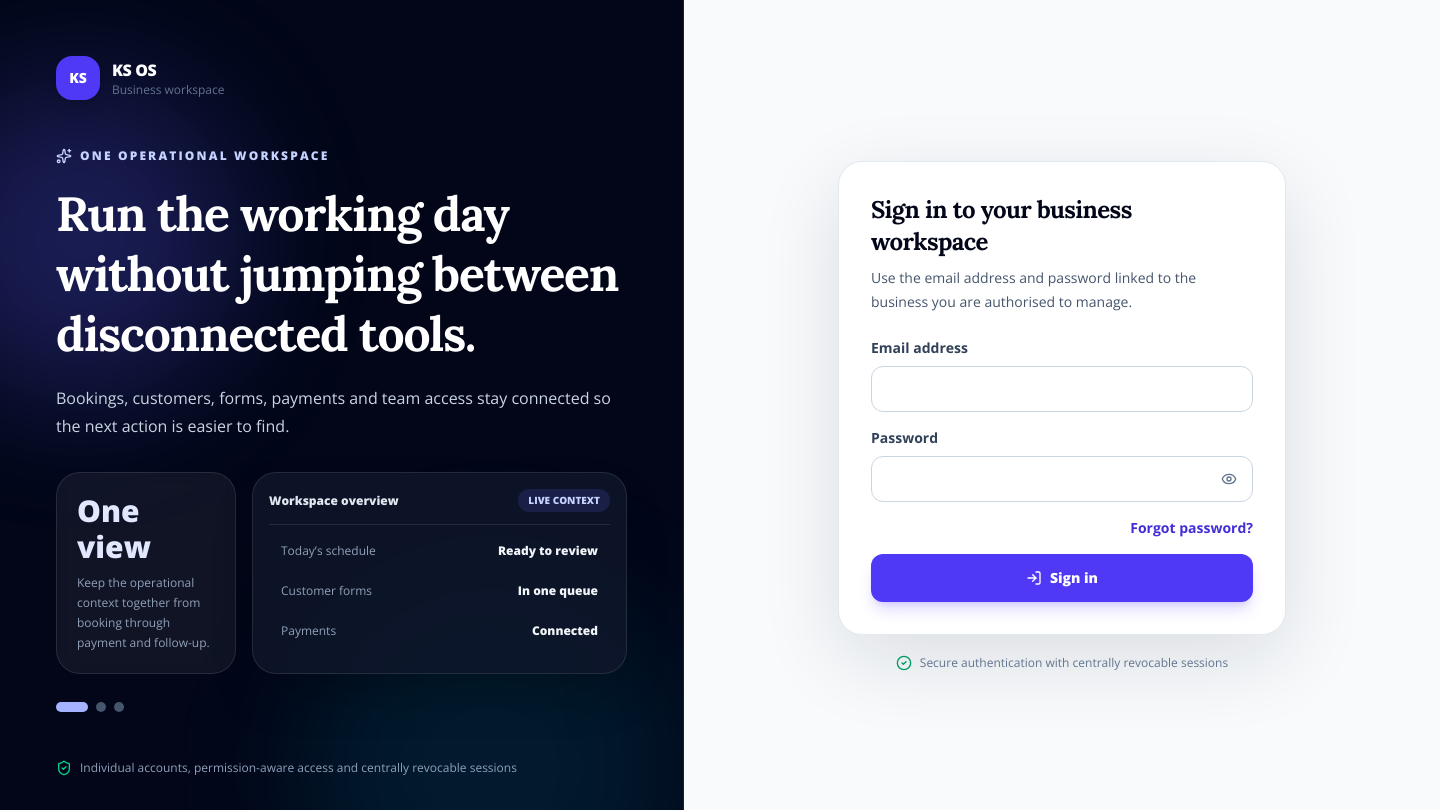
Test: business sign-in › shows the right error for provider status 402
The image size is (1440, 810).
Type "test@example.invalid" into the field labelled "Email address" at (1062, 389), box left=871, top=366, right=1253, bottom=412
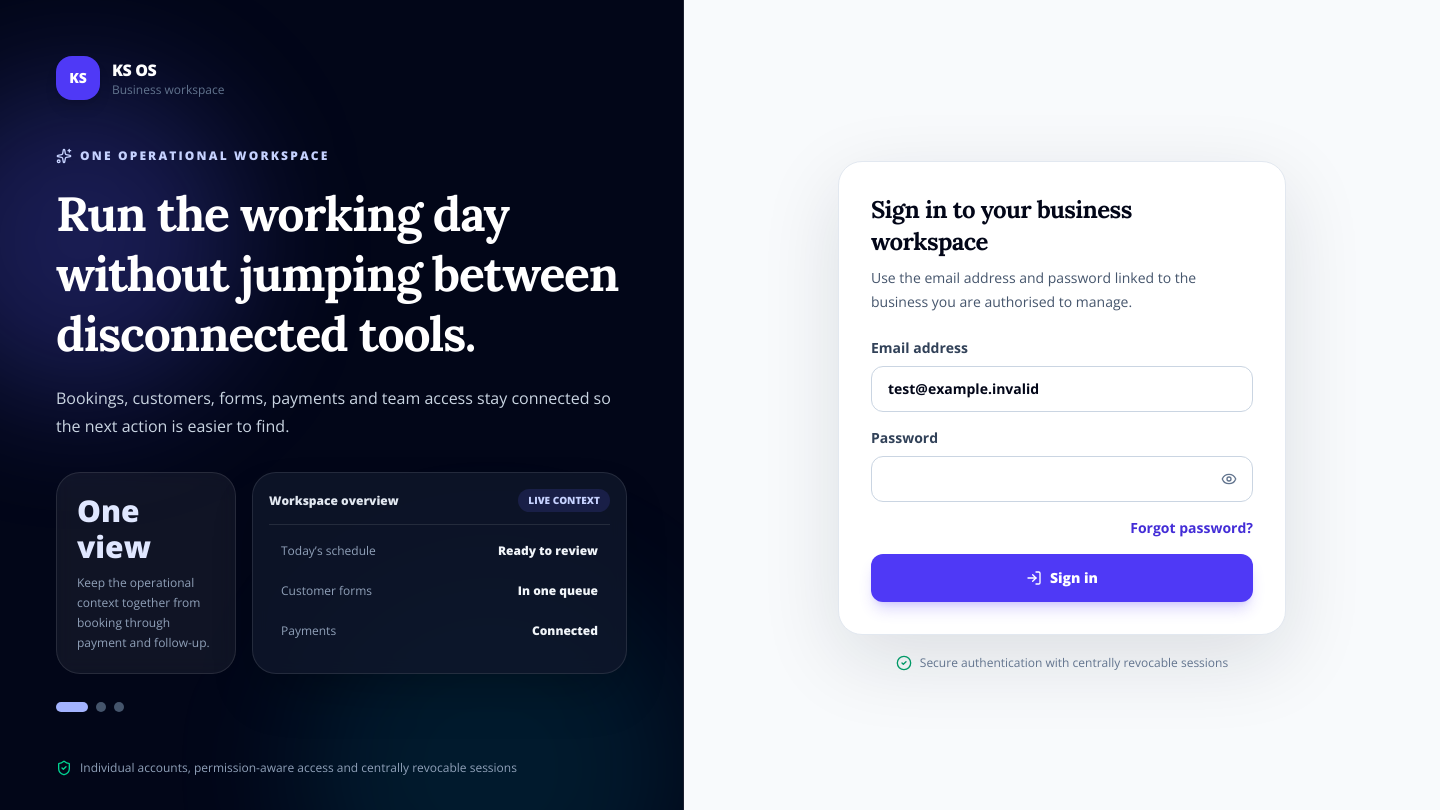
Type "test-password" into the password field labelled "Password" at (1062, 479), box left=871, top=456, right=1253, bottom=502
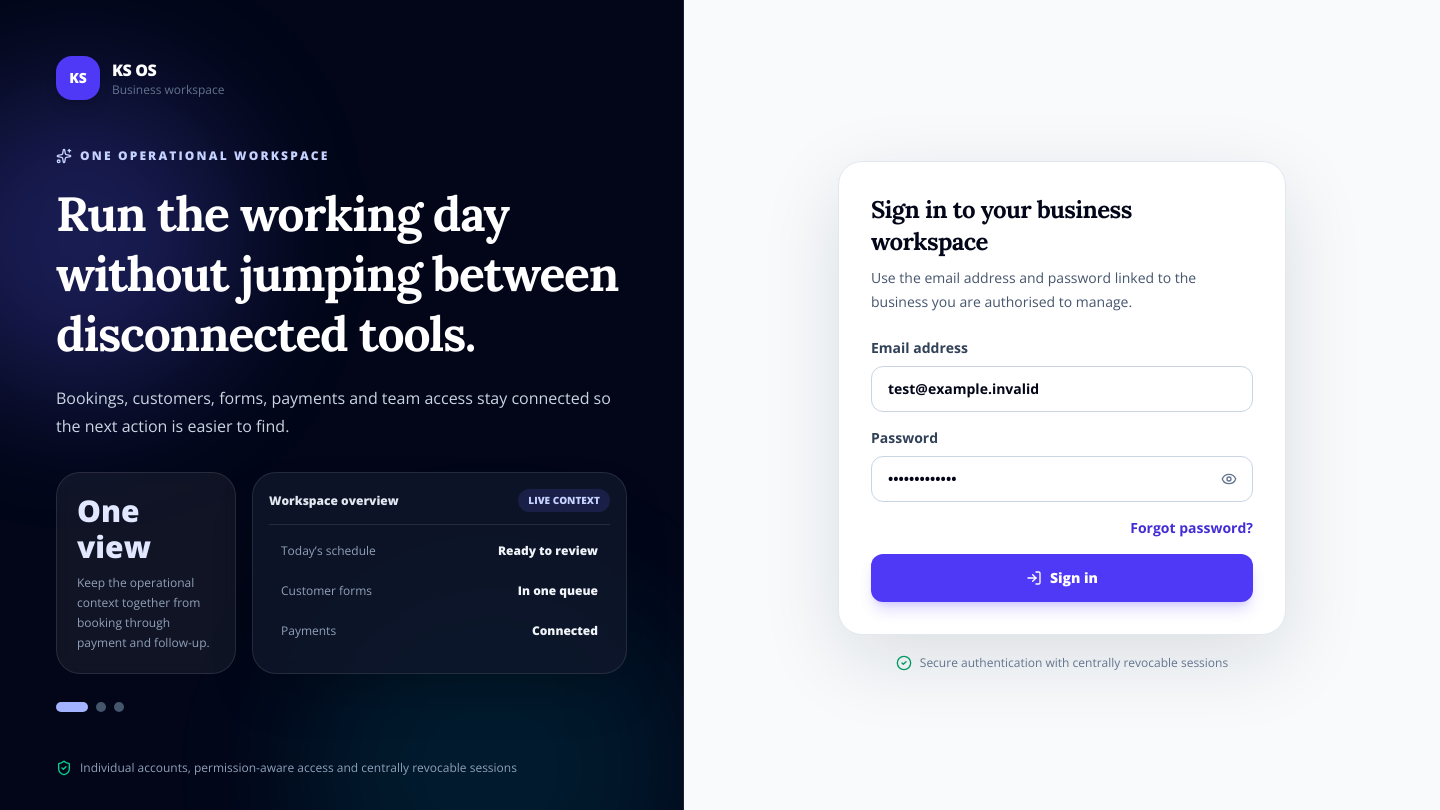
Submit the form "Sign in", box left=871, top=338, right=1253, bottom=602
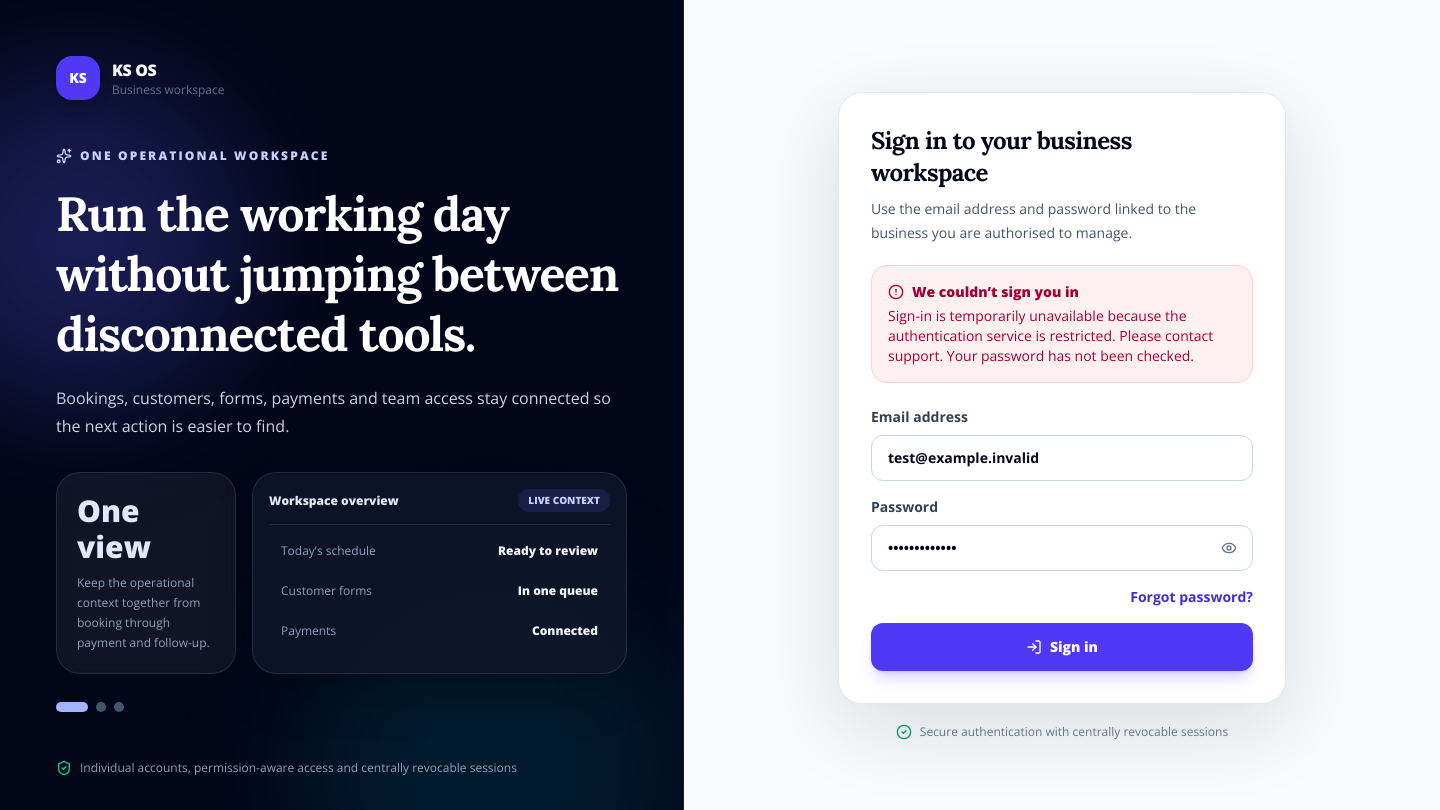
Expected: the button "Sign in" is enabled, left=871, top=623, right=1253, bottom=671
Expected: the message shows "authentication service is restricted", left=888, top=306, right=1213, bottom=365
